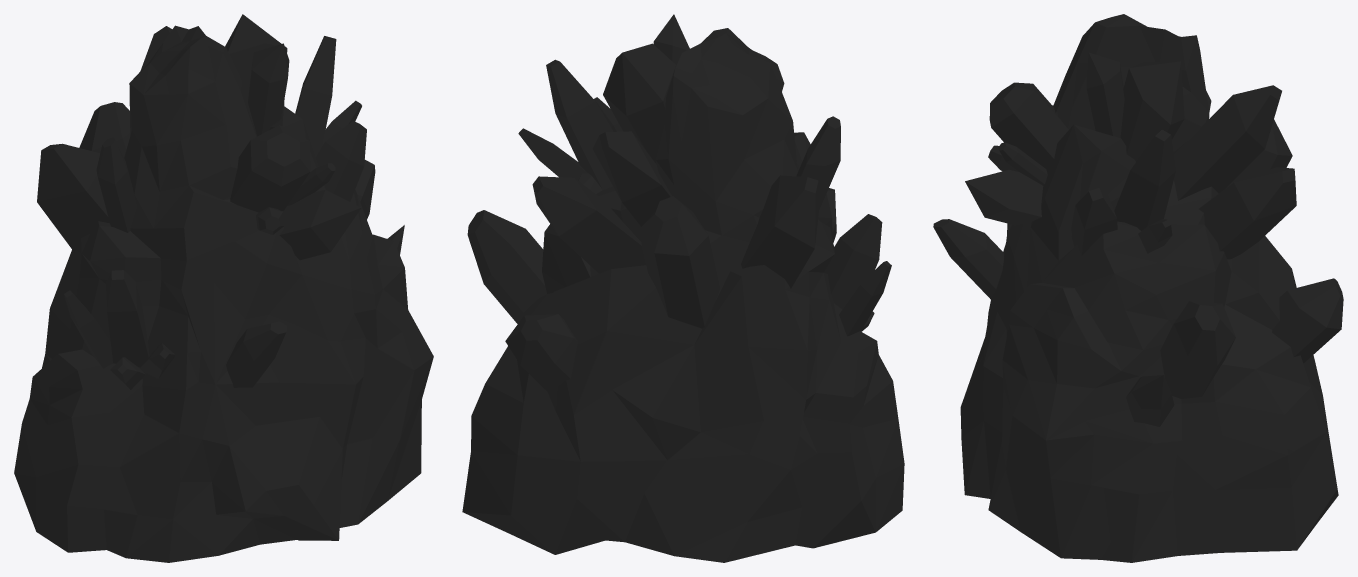
File: mining_PP_Crystal_Column_02_Iron.gltf
3 views of the same model, side by side, from view 1: azimuth 30°, elevation 25°; view 2: azimuth 150°, elevation 25°; view 3: azimuth 270°, elevation 25° (orthographic).
Visible parts, largest first — view 1: PP_Crystal_Column_02_Iron; view 2: PP_Crystal_Column_02_Iron; view 3: PP_Crystal_Column_02_Iron.
Part boxes in pixels (x1,y1,x2,y2): PP_Crystal_Column_02_Iron: [14, 14, 433, 562]; PP_Crystal_Column_02_Iron: [462, 14, 904, 562]; PP_Crystal_Column_02_Iron: [933, 14, 1343, 562].
Bounding box in the file's own units: 1.09 × 1.23 × 1.01.
Materials: 1 (1 with a texture image).
